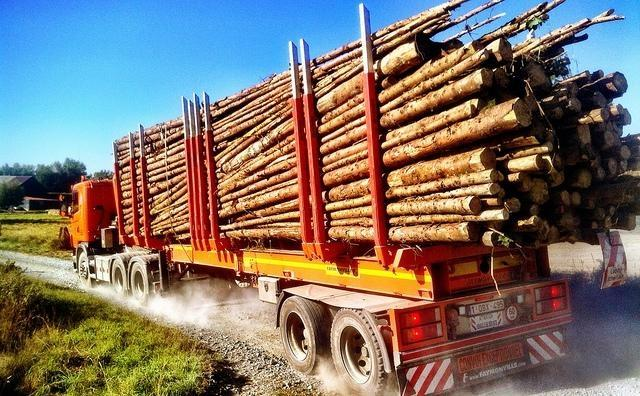truck: (56, 6, 576, 390)
